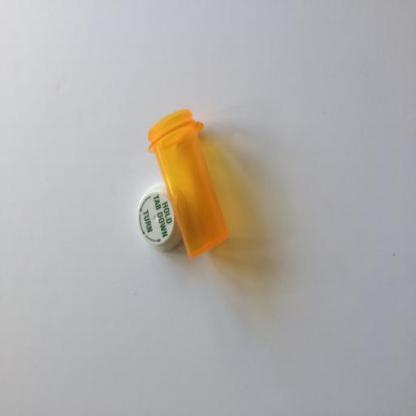trash: (147, 103, 231, 256), (138, 183, 187, 253)
